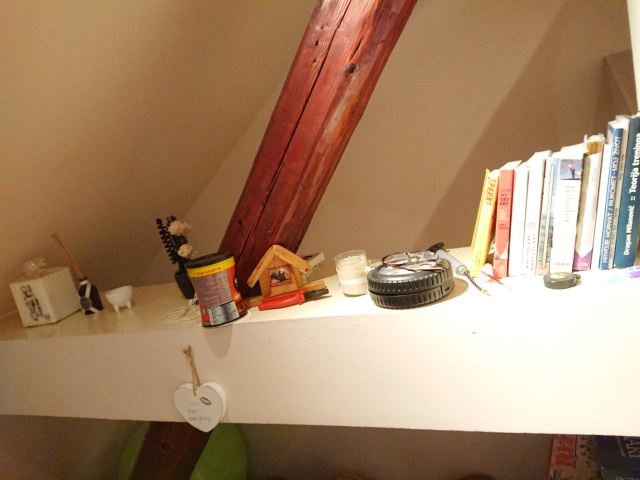Nescafe Classic 225g: (182, 249, 251, 330)
